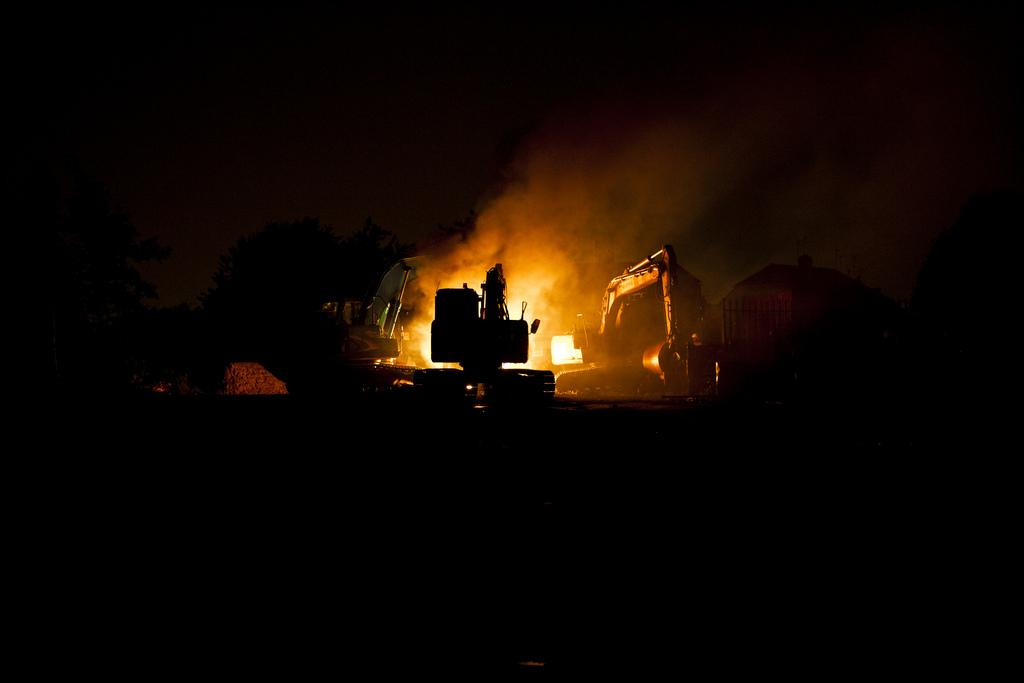fire: (513, 285, 547, 333), (415, 325, 440, 365)
